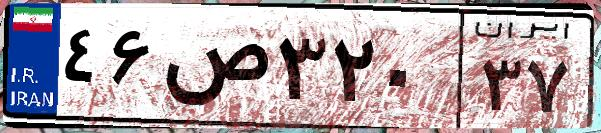0: (385, 28, 445, 110)
2: (330, 28, 385, 110)
3: (270, 28, 330, 110), (475, 38, 525, 113)
4: (57, 26, 110, 100)
6: (110, 28, 158, 98)
7: (525, 38, 570, 115)
ص: (158, 20, 270, 120)
